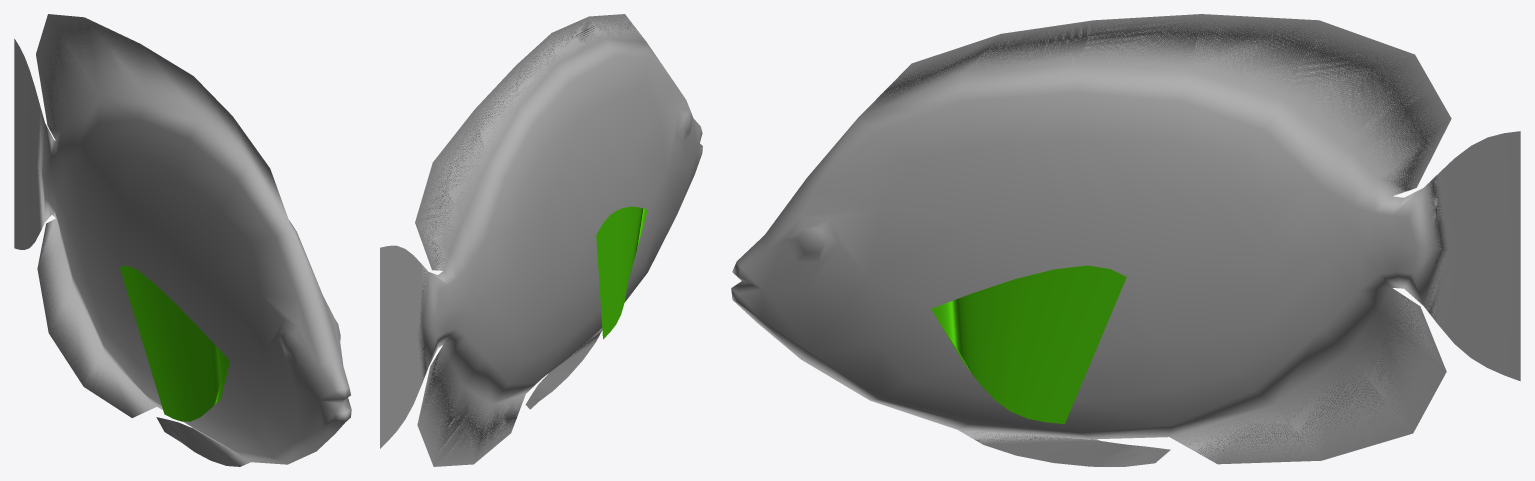
Rendered from Pomacanthidae_A_S.fbx.
3 renders of one model, left to right at view 1: azimuth 30°, elevation 25°; view 2: azimuth 150°, elevation 25°; view 3: azimuth 270°, elevation 25°, orthographic. The views are drawn at different scales.
Parts seen in each view (by area): view 1: Pomacanthidae_A_S_Mesh; view 2: Pomacanthidae_A_S_Mesh; view 3: Pomacanthidae_A_S_Mesh.
Part boxes in pixels (x1,y1,x2,y2): Pomacanthidae_A_S_Mesh: (14,14,351,466); Pomacanthidae_A_S_Mesh: (380,14,702,466); Pomacanthidae_A_S_Mesh: (731,14,1520,466).
Bounding box in the file's own units: 0.00213 × 0.0064 × 0.0101.
